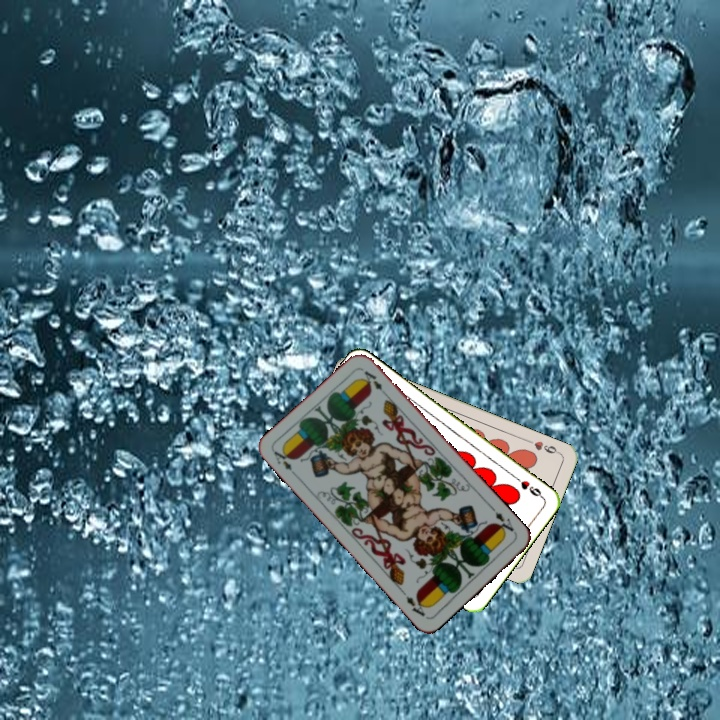EA: (270, 445, 301, 480), (491, 507, 518, 538)
H9: (511, 472, 546, 501), (530, 437, 563, 457)
